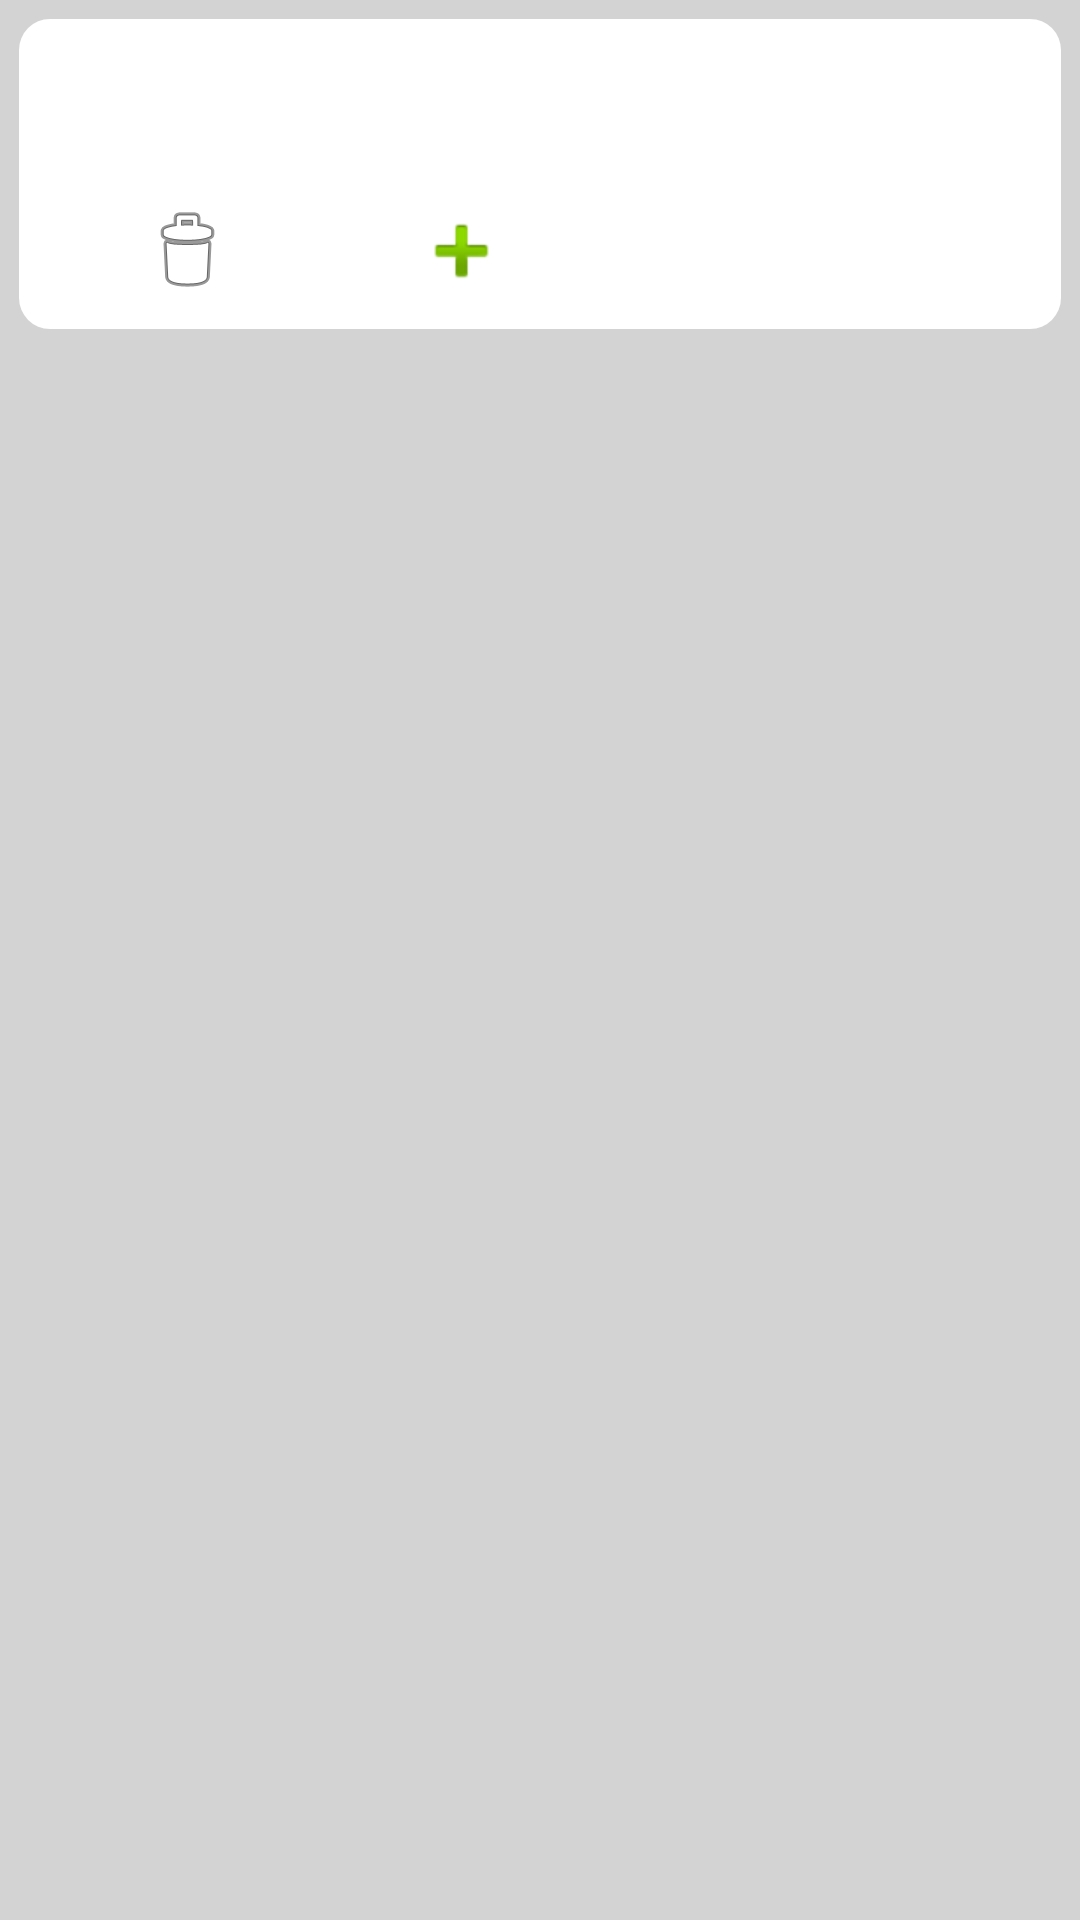

Icon bounding boxes for this 1080px×1920px phone screenshot, format box=[x1, y1, x2, y2]:
add: box=[434, 224, 489, 278]
delete: box=[160, 212, 215, 287]
